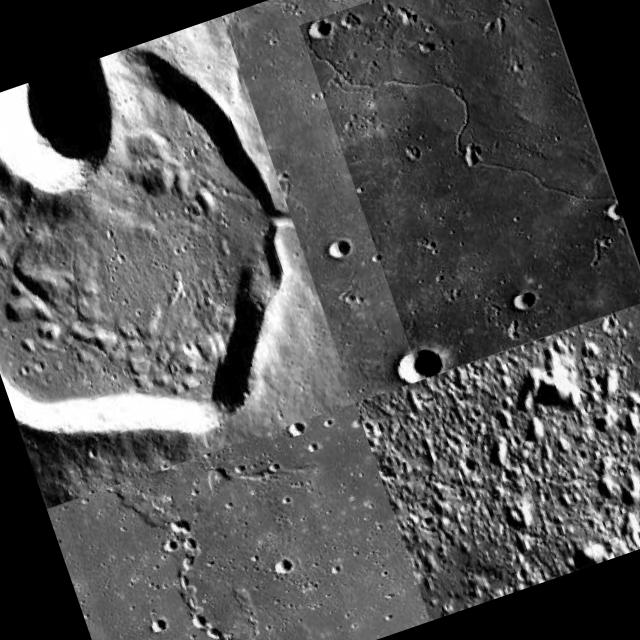rille: (298, 0, 640, 379), (388, 327, 640, 610), (61, 427, 358, 640)
